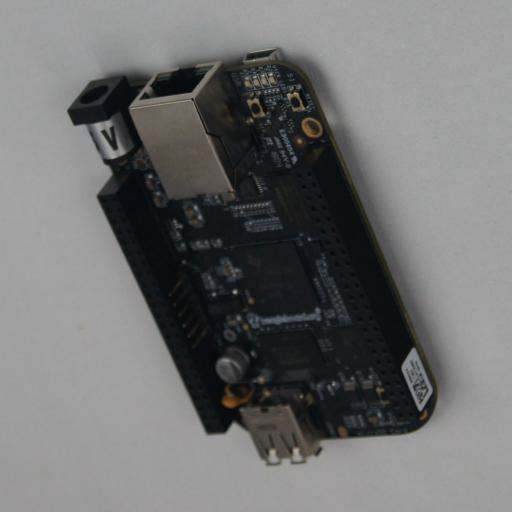Beaglebone Black: (67, 48, 443, 465)
